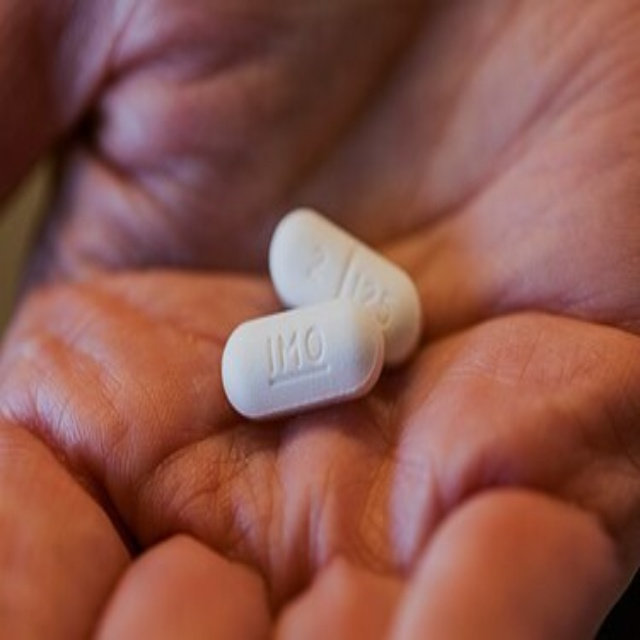pill: (158, 82, 247, 145), (128, 118, 226, 167)
